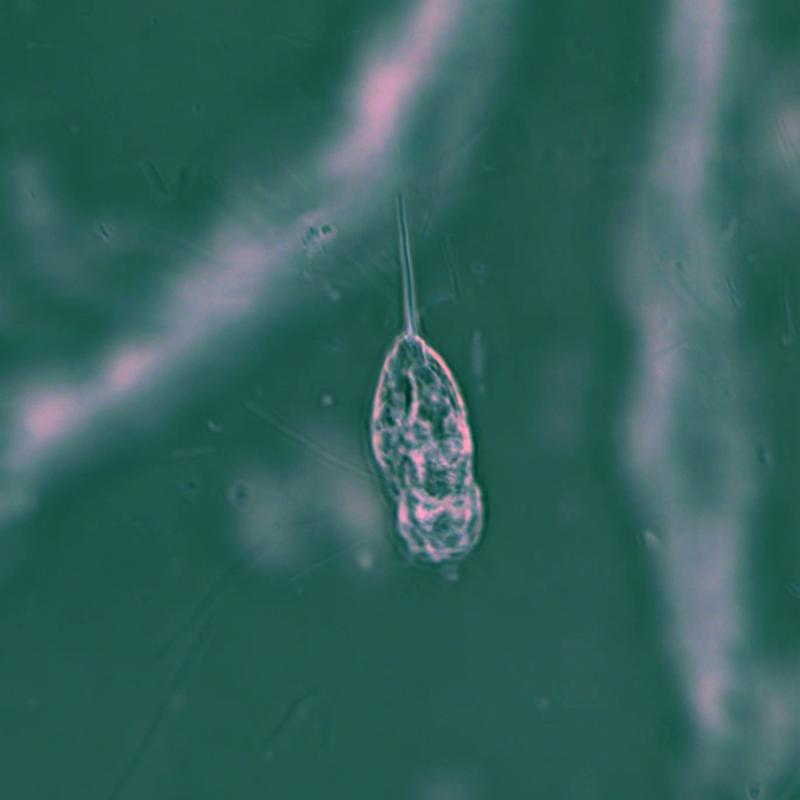depth:0: (351, 185, 514, 578)
